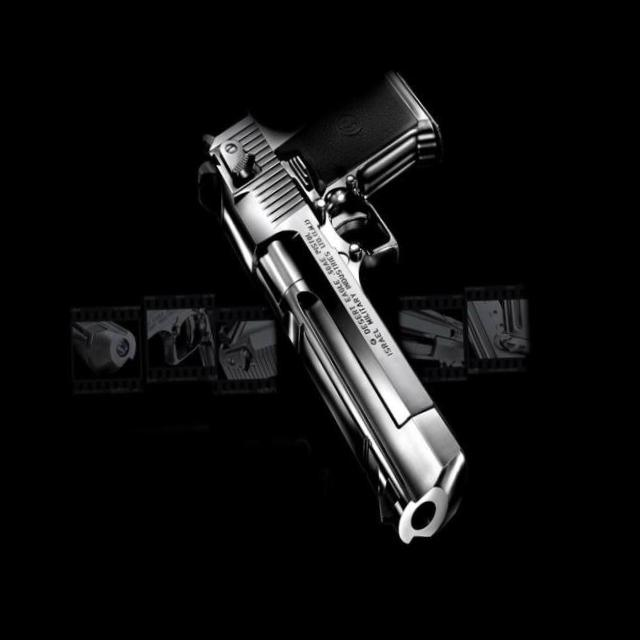Gun: (206, 72, 464, 541)
